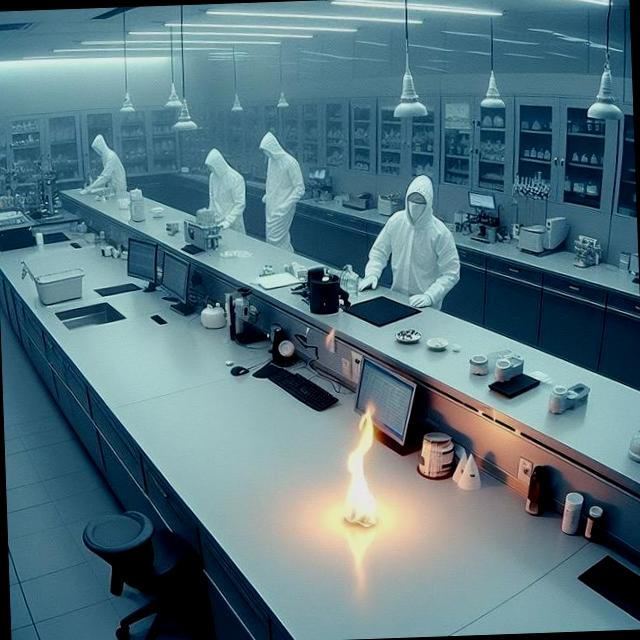fire: (324, 370, 414, 564)
